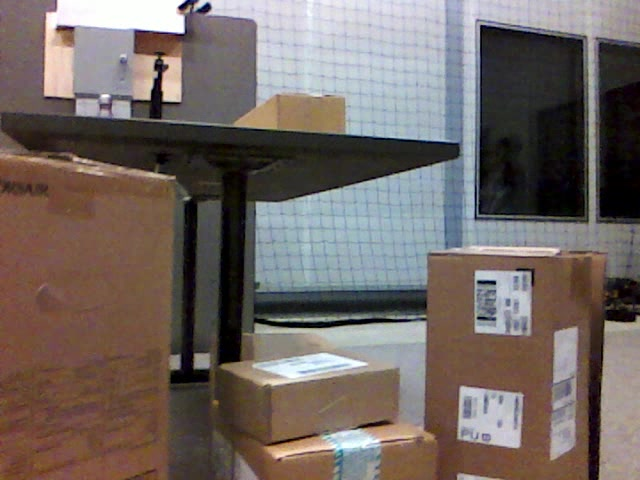box: (1, 151, 172, 476), (427, 245, 604, 480), (218, 352, 402, 439), (214, 409, 433, 480), (233, 95, 344, 132)
